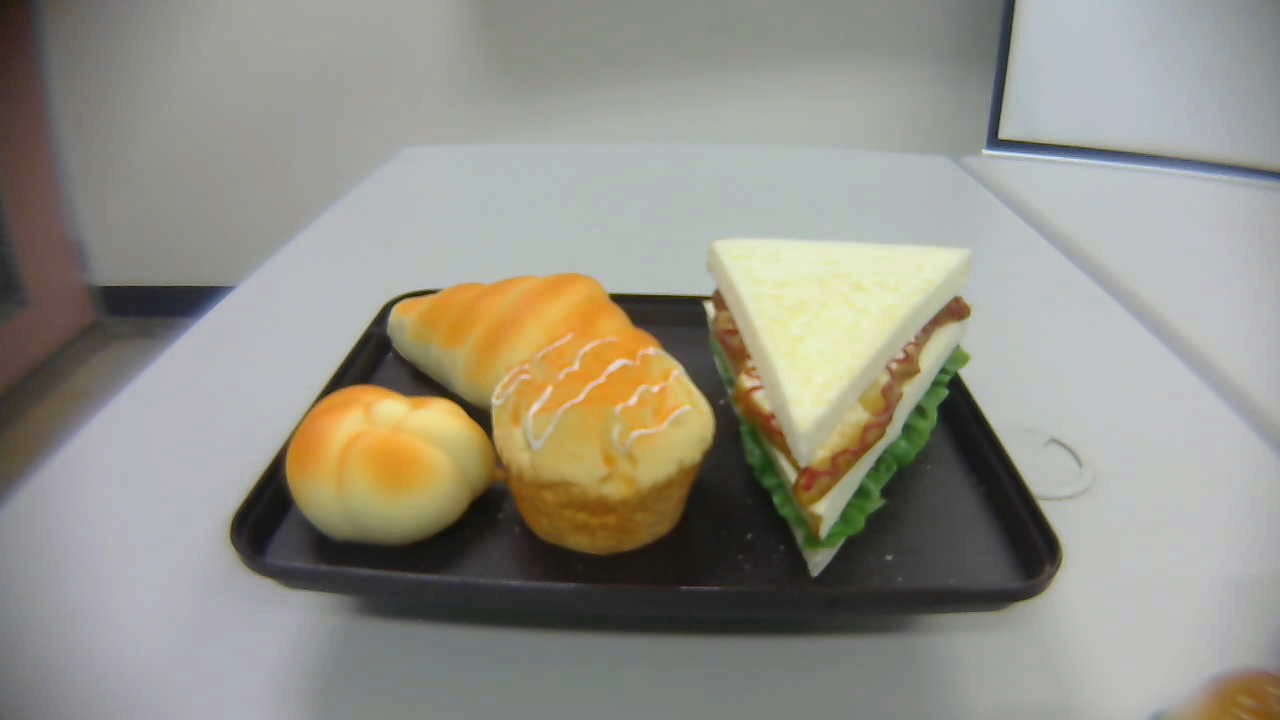croissant: (386, 274, 670, 414)
cupcake: (490, 326, 715, 561)
sandwich: (702, 233, 974, 577)
twist bread: (284, 381, 505, 547)
